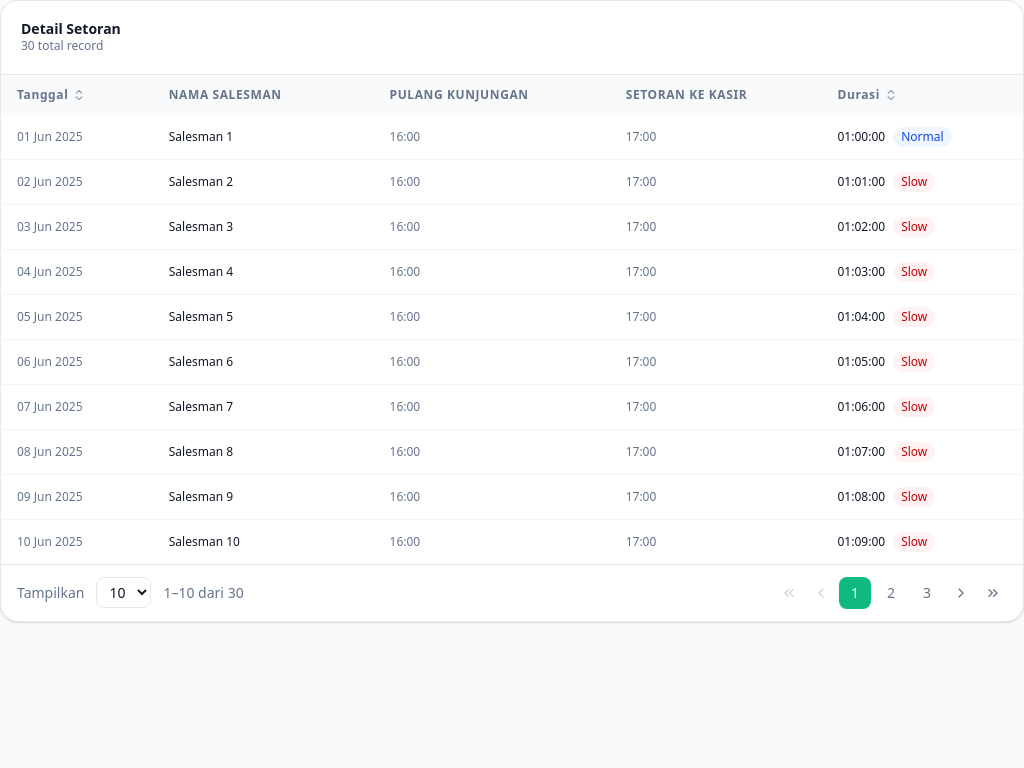
Test: Workflow 5 — Table navigation: pagination controls (Requirements 5.1, 8.3, 8.4, 8.5) › jumps to the last page via "Halaman terakhir" button
The image size is (1024, 768).
Click the button named "halaman terakhir" at (993, 593), box [979,579,1007,607]
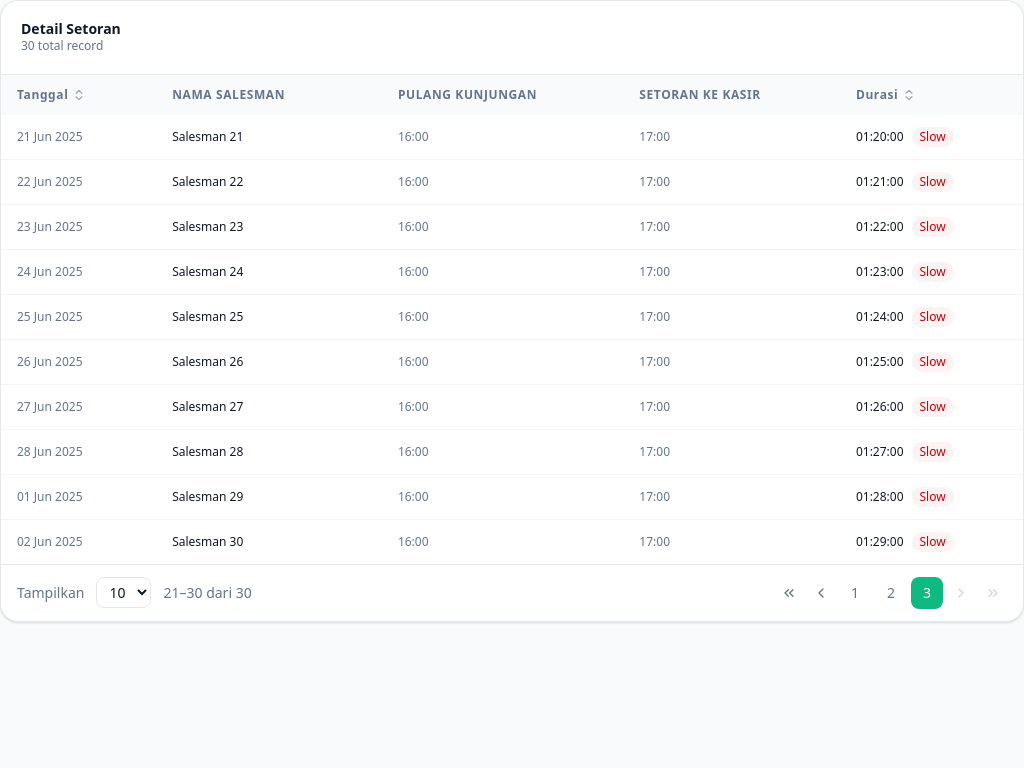
Check: the text "21–30 dari 30" is shown, box [163,583,252,603]
